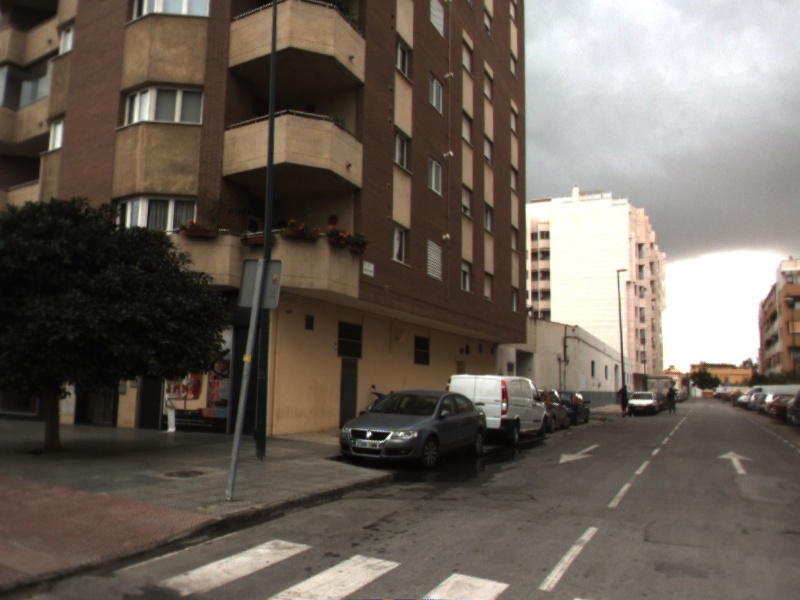STRAIGHT: (715, 449, 757, 475)
